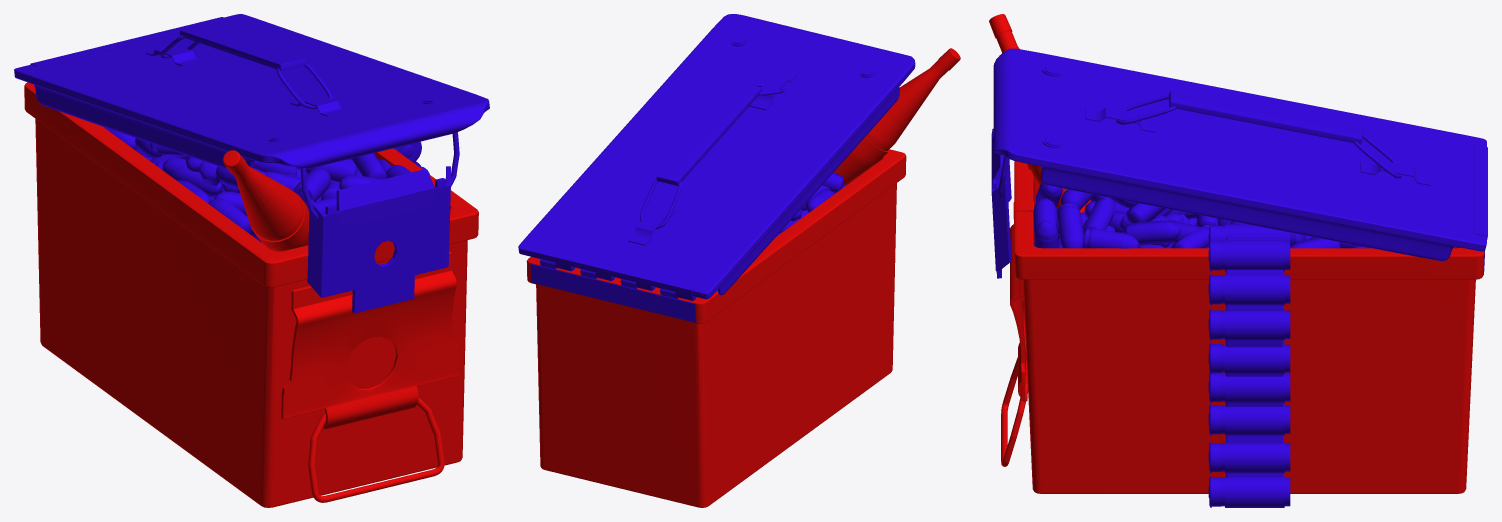
Rendered from Special_Ammo_Crate_Low1.fbx.
The picture shows the model from 3 angles, left to right: view 1: azimuth 30°, elevation 25°; view 2: azimuth 150°, elevation 25°; view 3: azimuth 270°, elevation 25°; orthographic projection. The views are drawn at different scales.
Parts seen in each view (by area): view 1: Special_Ammo_Crate_LP1; view 2: Special_Ammo_Crate_LP1; view 3: Special_Ammo_Crate_LP1.
Part boxes in pixels (left/top/right/bottom): Special_Ammo_Crate_LP1: left=14, top=14, right=489, bottom=507; Special_Ammo_Crate_LP1: left=518, top=14, right=960, bottom=507; Special_Ammo_Crate_LP1: left=989, top=14, right=1487, bottom=507.
Size of the model in its own units: 30.34 by 33.32 by 41.28.
